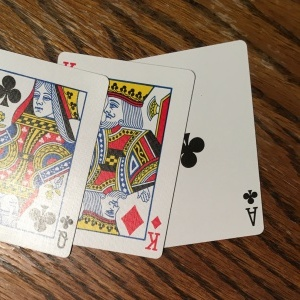card: (75, 54, 195, 260), (182, 36, 265, 244)
